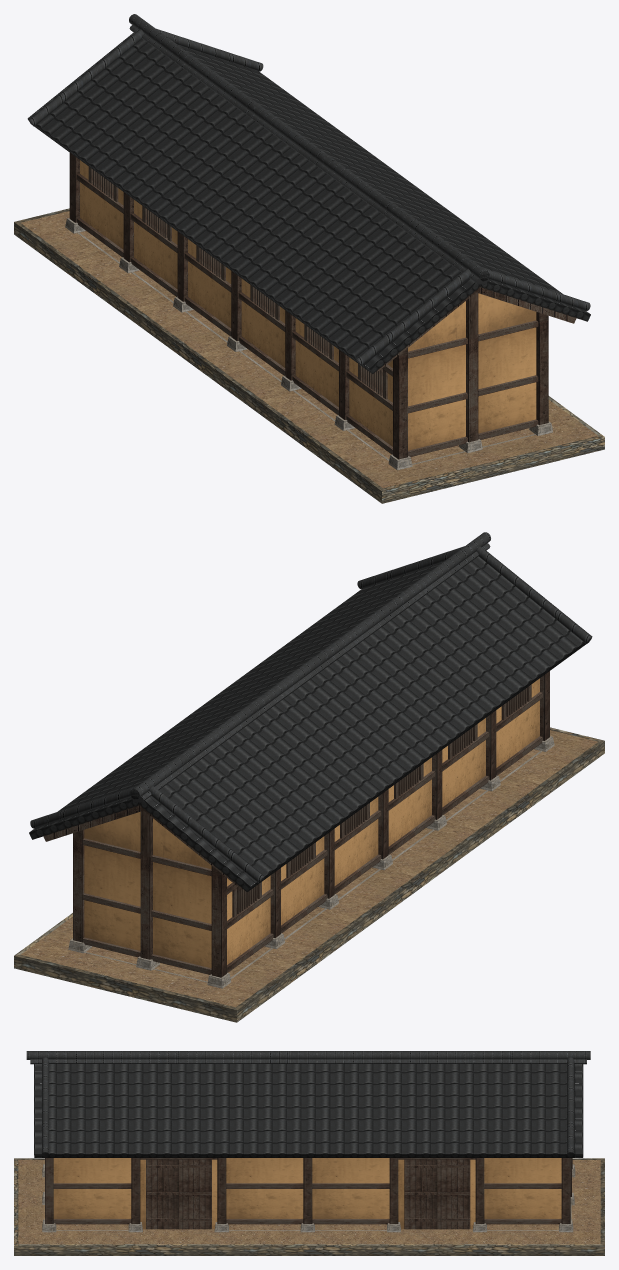
File: KoreanMansion_House_5.FBX
3 views of the same model, one above another, from view 1: azimuth 30°, elevation 25°; view 2: azimuth 150°, elevation 25°; view 3: azimuth 270°, elevation 25° (orthographic). The views are drawn at different scales.
Visible parts, largest first — view 1: KoreanMansion_House_5; view 2: KoreanMansion_House_5; view 3: KoreanMansion_House_5.
Boxes of the visible parts, x1,y1,x2,y2 form: KoreanMansion_House_5: (14, 14, 604, 503); KoreanMansion_House_5: (14, 532, 604, 1022); KoreanMansion_House_5: (14, 1051, 604, 1255).
Bounding box in the file's own units: 530 × 435 × 1453.
